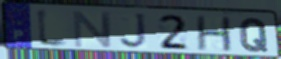2: (157, 14, 191, 52)
H: (195, 15, 235, 53)
J: (118, 12, 150, 50)
L: (35, 7, 72, 50)
N: (71, 10, 114, 49)
Q: (239, 17, 270, 54)
